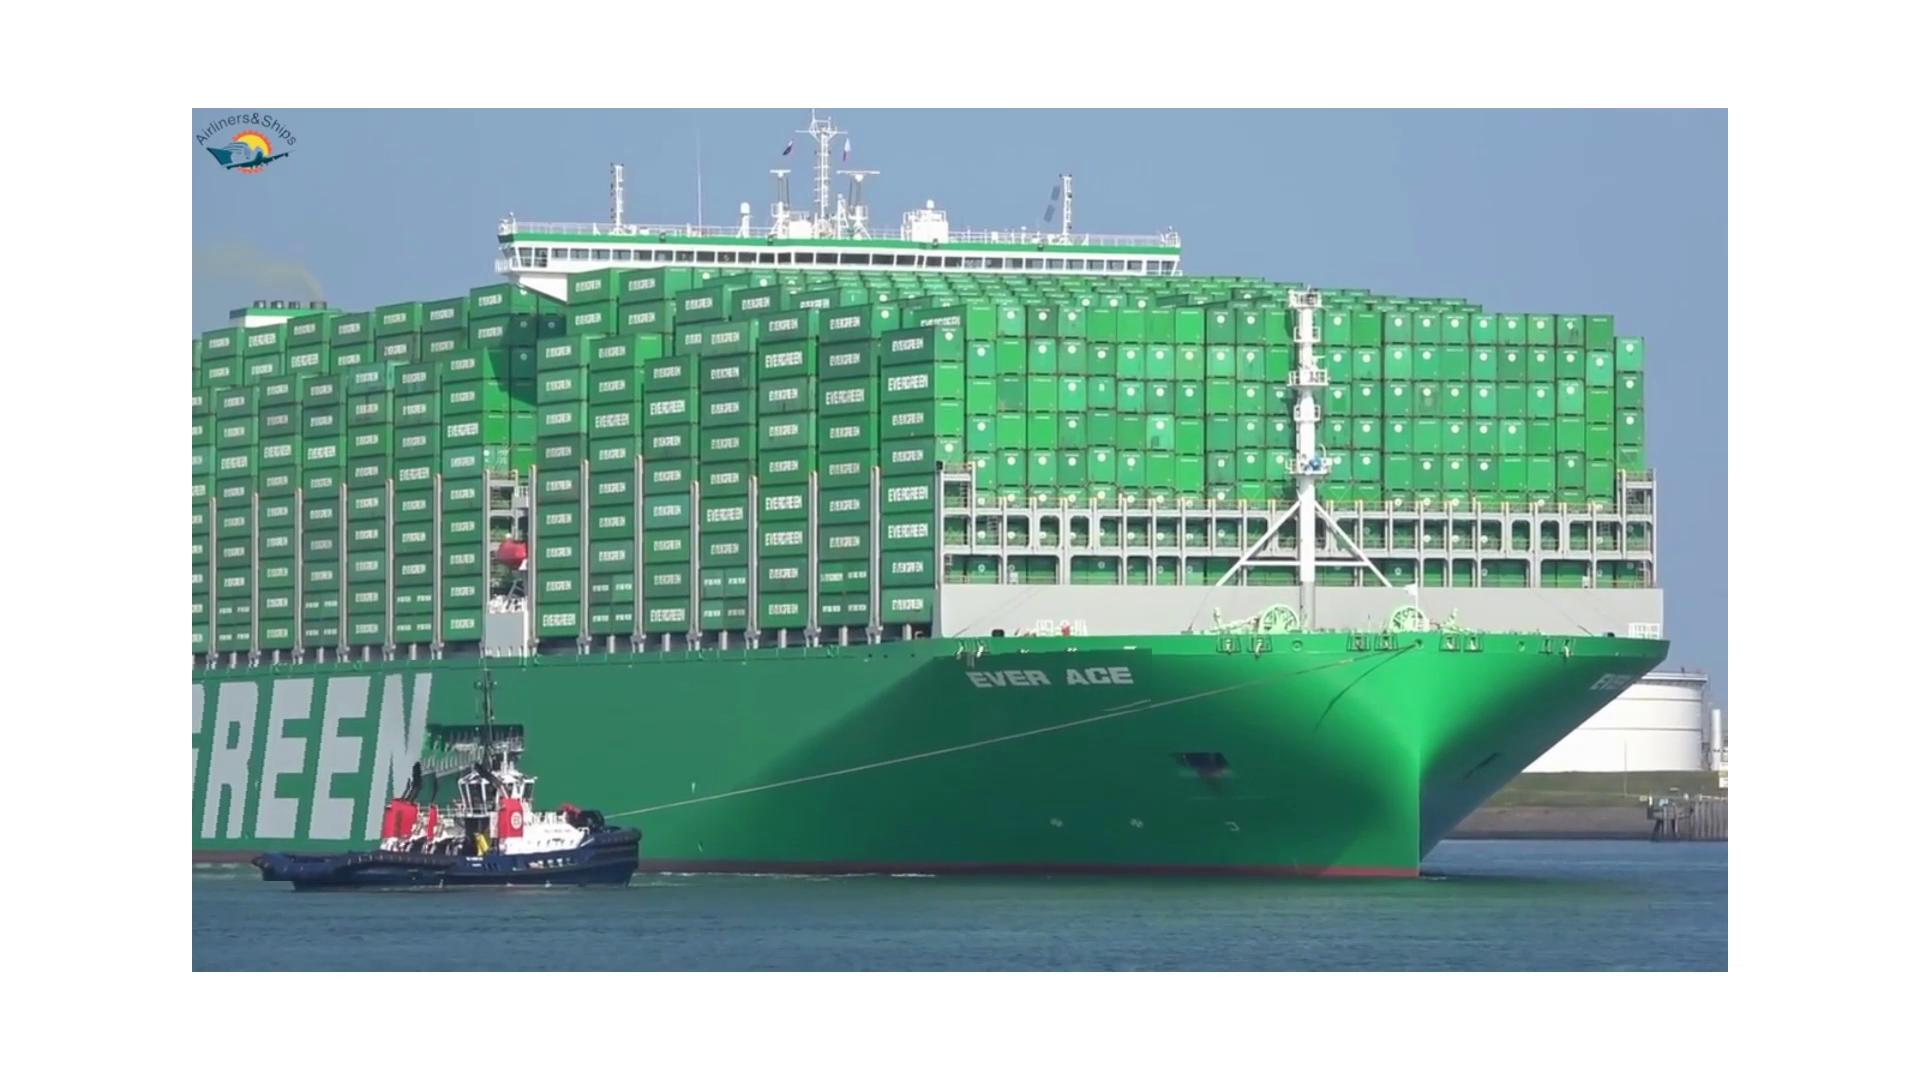OCR: (191, 661, 450, 882), (934, 640, 1153, 716)
